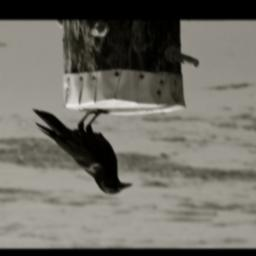Crow: (30, 105, 134, 198)
